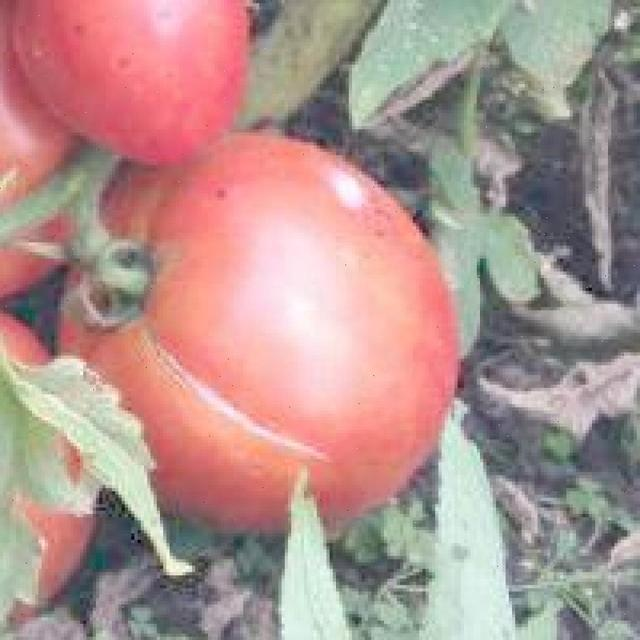Healthy Fruit: (8, 5, 160, 101)
